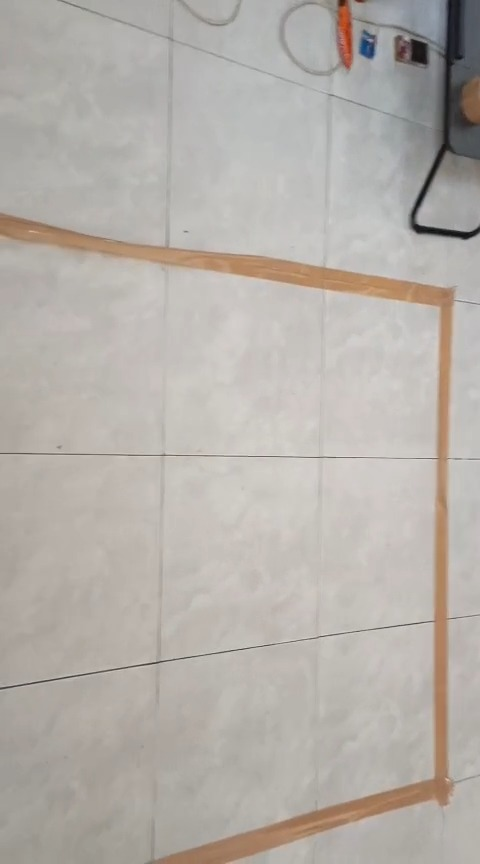floor marking: (0, 214, 453, 863)
